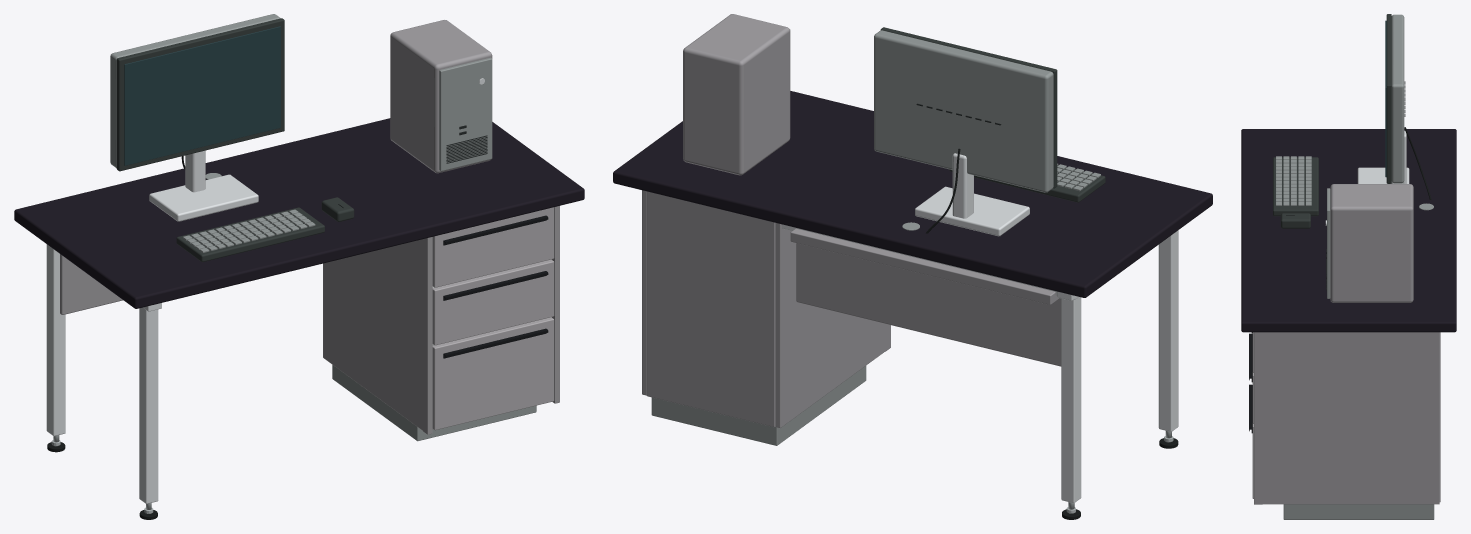
The model's file is computer-lab-bench.glb.
The picture shows the model from 3 angles, left to right: view 1: azimuth 30°, elevation 25°; view 2: azimuth 150°, elevation 25°; view 3: azimuth 270°, elevation 25°; orthographic projection. The views are drawn at different scales.
Visible parts, largest first — view 1: Runtime batch - Black phenolic worktop - satin, Runtime batch - Room 809 light gray powder coat, Runtime batch - __moving__Access - Computer pedestal drawer  (×3), Runtime batch - Unlit instrument display glass, Runtime batch - Powder coat service gray, Runtime batch - Reference satin aluminium hardware, Runtime batch - Functional graphite controls, Runtime batch - Casework seam shadow; view 2: Runtime batch - Room 809 light gray powder coat, Runtime batch - Black phenolic worktop - satin, Runtime batch - Powder coat service gray, Runtime batch - Reference satin aluminium hardware, Runtime batch - Functional graphite controls; view 3: Runtime batch - Room 809 light gray powder coat, Runtime batch - Black phenolic worktop - satin, Runtime batch - Powder coat service gray, Runtime batch - Functional graphite controls, Runtime batch - Reference satin aluminium hardware, Runtime batch - __moving__Access - Computer pedestal drawer  (×2), Runtime batch - Unlit instrument display glass.
Part boxes in pixels (x1,y1,x2,y2): Runtime batch - Black phenolic worktop - satin: (14,118,584,308); Runtime batch - Room 809 light gray powder coat: (60,20,559,434); Runtime batch - __moving__Access - Computer pedestal drawer  (×3): (432,207,554,430); Runtime batch - Unlit instrument display glass: (124,26,280,165); Runtime batch - Powder coat service gray: (110,14,536,441); Runtime batch - Reference satin aluminium hardware: (46,78,484,503); Runtime batch - Functional graphite controls: (116,18,354,262); Runtime batch - Casework seam shadow: (338,125,487,207); Runtime batch - Room 809 light gray powder coat: (642,14,1061,428); Runtime batch - Black phenolic worktop - satin: (613,91,1212,297); Runtime batch - Powder coat service gray: (651,29,1100,445); Runtime batch - Reference satin aluminium hardware: (782,153,1178,503); Runtime batch - Functional graphite controls: (880,27,1105,202); Runtime batch - Room 809 light gray powder coat: (1254,184,1440,504); Runtime batch - Black phenolic worktop - satin: (1241,129,1456,332); Runtime batch - Powder coat service gray: (1276,14,1434,519); Runtime batch - Functional graphite controls: (1273,14,1391,228); Runtime batch - Reference satin aluminium hardware: (1325,130,1409,225); Runtime batch - __moving__Access - Computer pedestal drawer  (×2): (1249,333,1253,498); Runtime batch - Unlit instrument display glass: (1385,20,1386,177).
Bounding box in the file's own units: 1.6 × 1.35 × 0.75.
